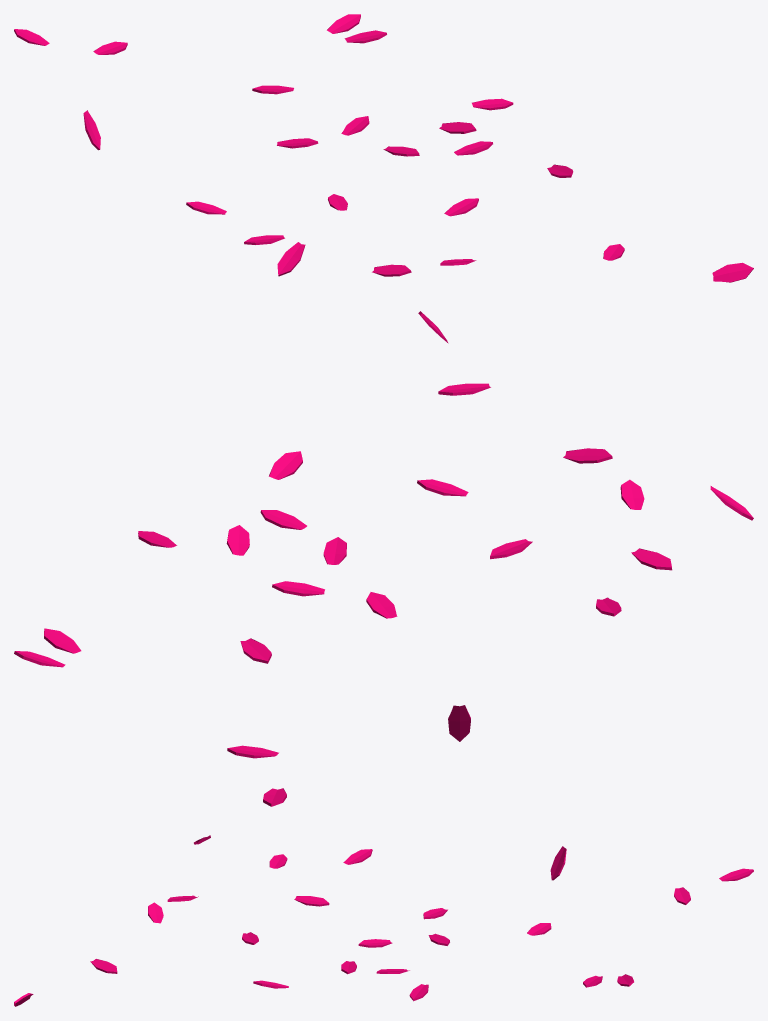
The model's file is SM_SS_Leaves.fbx.
The picture shows the model from 3 angles, top to bottom: view 1: azimuth 30°, elevation 25°; view 2: azimuth 150°, elevation 25°; view 3: azimuth 270°, elevation 25°; orthographic projection. The views are drawn at different scales.
Visible parts, largest first — view 1: SM_SS_Leaves; view 2: SM_SS_Leaves; view 3: SM_SS_Leaves.
Boxes of the visible parts, x1=… form: SM_SS_Leaves: x1=14, y1=14, x2=753, y2=282; SM_SS_Leaves: x1=14, y1=311, x2=753, y2=806; SM_SS_Leaves: x1=14, y1=835, x2=753, y2=1006.
Bounding box in the file's own units: 114 × 228 × 15.67.
